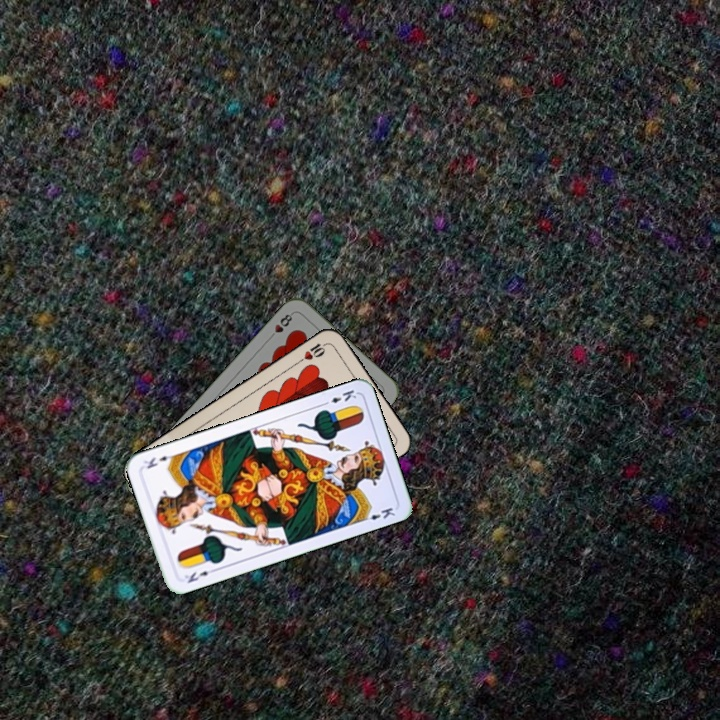EK: (319, 386, 359, 408), (181, 565, 218, 586)
H10: (293, 339, 329, 366)
H8: (265, 309, 295, 342)
